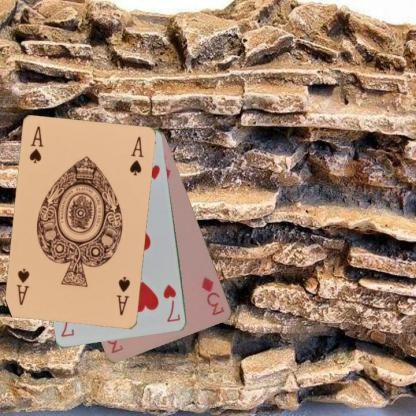3d: (199, 274, 226, 317)
7h: (160, 282, 182, 324)
As: (114, 274, 132, 316), (27, 124, 45, 165)
